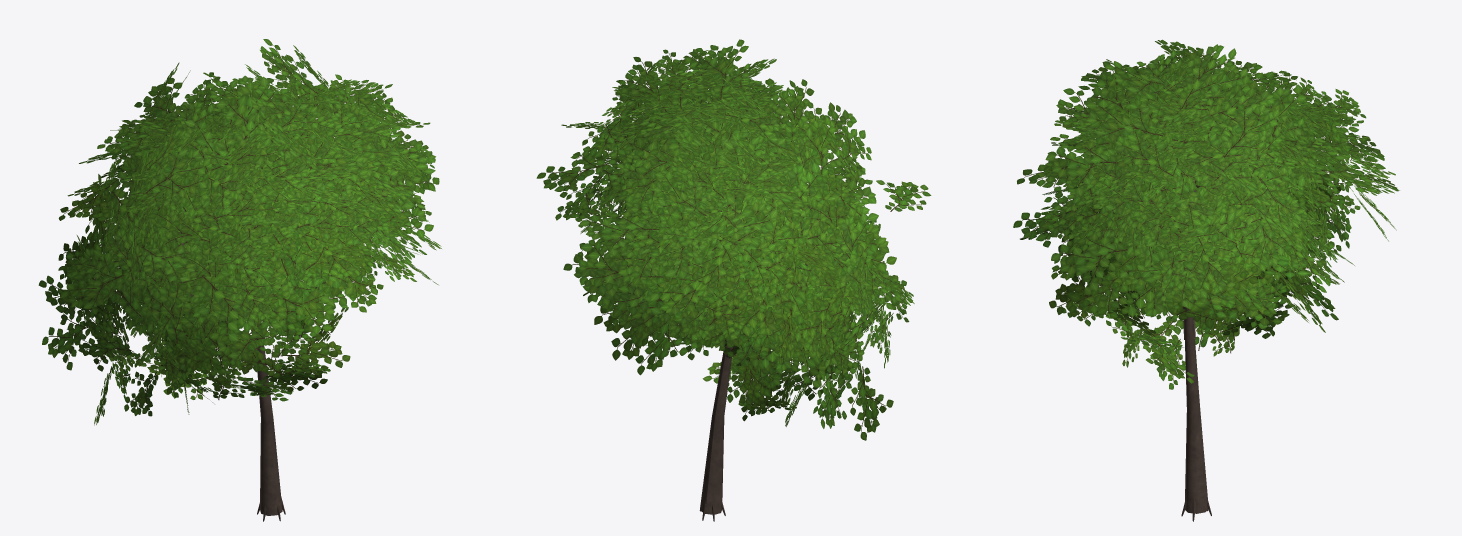
Rendered from tree_small_b.glb.
3 renders of one model, left to right at view 1: azimuth 30°, elevation 25°; view 2: azimuth 150°, elevation 25°; view 3: azimuth 270°, elevation 25°, orthographic. The views are drawn at different scales.
Parts seen in each view (by area): view 1: tree_small_b; view 2: tree_small_b; view 3: tree_small_b.
Part boxes in pixels (left/top/right/bottom): tree_small_b: left=38, top=39, right=441, bottom=521; tree_small_b: left=536, top=39, right=931, bottom=521; tree_small_b: left=1013, top=39, right=1399, bottom=521.
Bounding box in the file's own units: 4.01 × 4.61 × 3.96.
2 materials, 2 textured.
